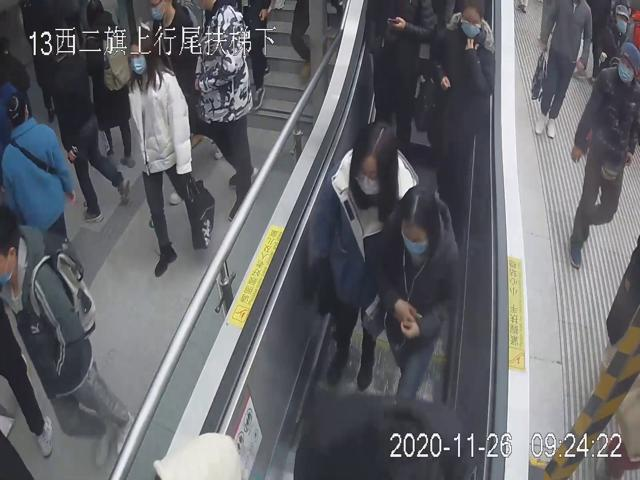person: (307, 120, 418, 393), (127, 32, 216, 277), (374, 185, 462, 400), (569, 37, 640, 269), (424, 0, 496, 206)
